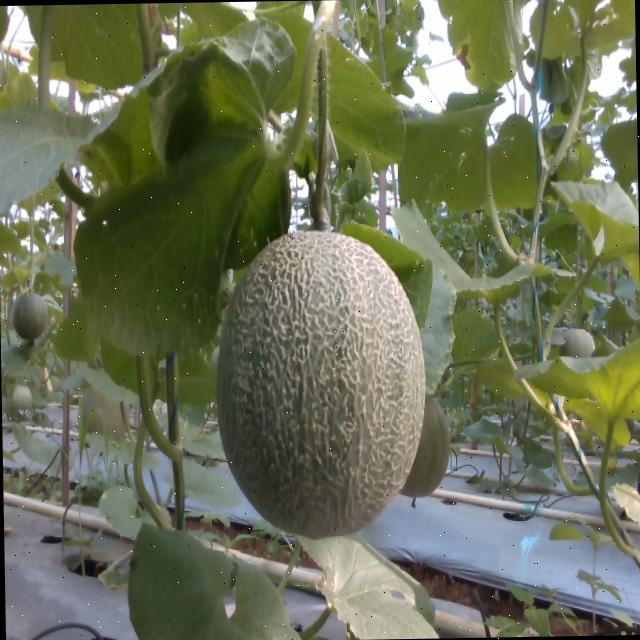melon: (218, 231, 426, 538)
